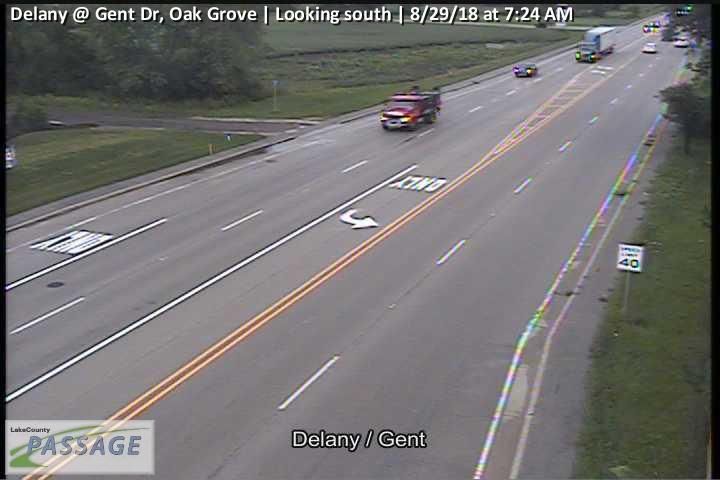Sedan: (513, 63, 538, 77), (643, 42, 656, 52)
Truck: (381, 89, 441, 134), (576, 26, 617, 63)
